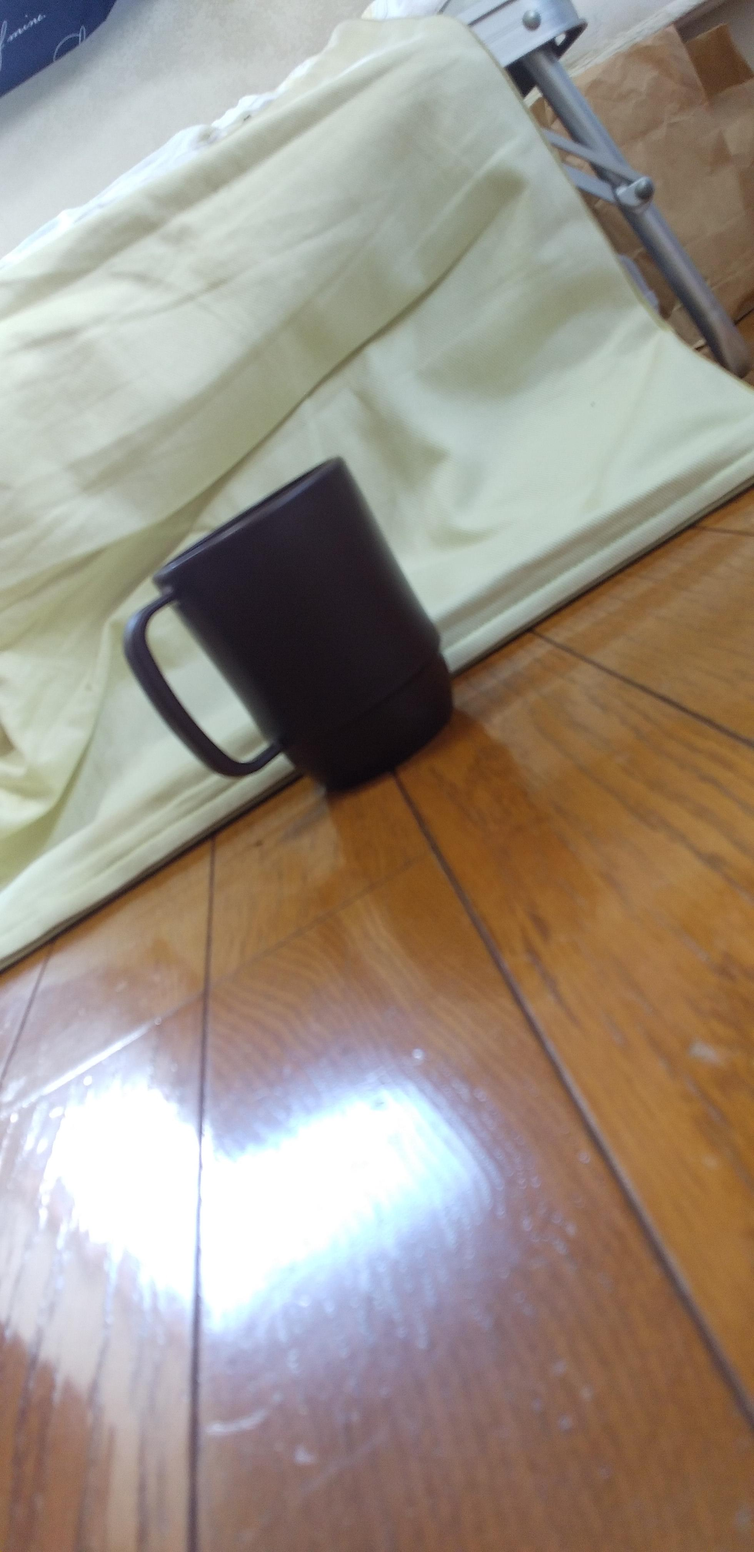mug-real100-3d100: (124, 458, 452, 789)
